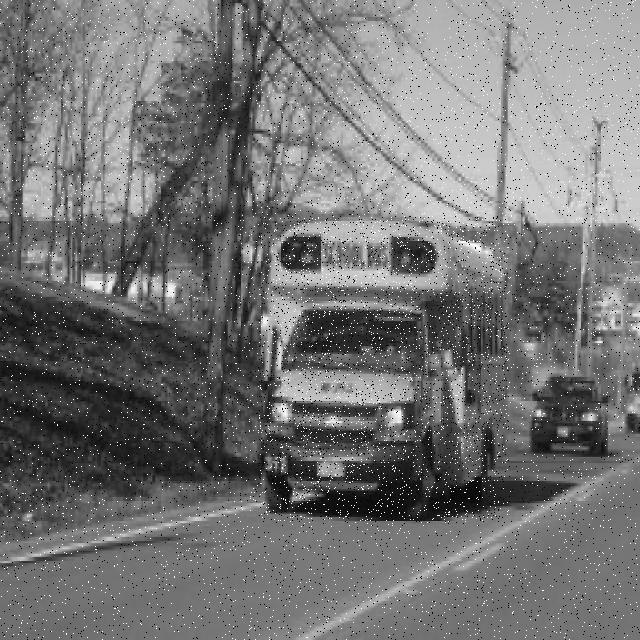Bus- Small: (259, 216, 509, 522)
